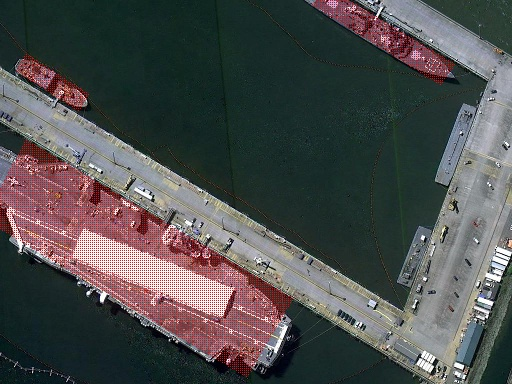ship: (1, 128, 313, 384), (305, 1, 463, 92), (12, 53, 93, 114)
